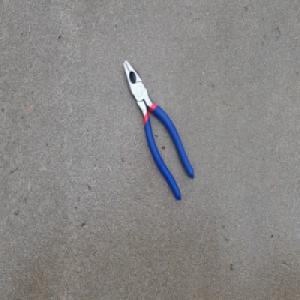Pliers: (122, 57, 195, 202)
